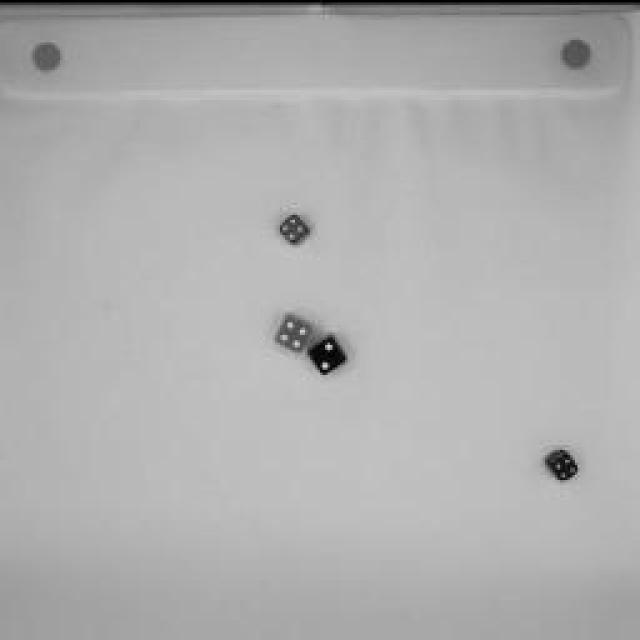dice_2: (298, 326, 354, 376)
dice_4: (270, 305, 320, 357), (275, 205, 317, 245), (542, 441, 582, 481)
